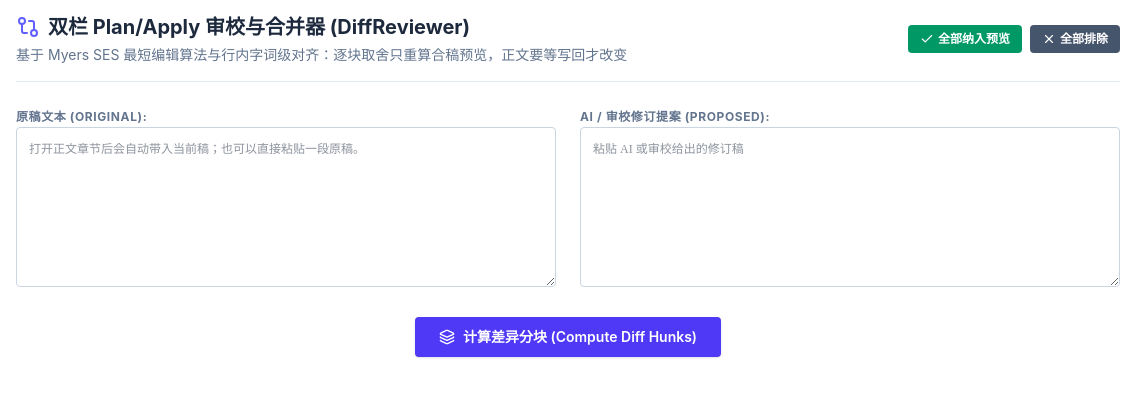
Test: DiffReviewer UI Components › starts blank and refuses to compute from two empty panels
The image size is (1137, 396).
Check: the text box with placeholder "打开正文章节后会自动带入当前稿；也可以直接粘贴一段原稿。" is empty, box 16,127 -> 556,287
Check: the text box with placeholder "粘贴 AI 或审校给出的修订稿" is empty, box 580,127 -> 1120,287
Click the button "计算差异分块 (Compute Diff Hunks)". click: (568, 337)
box: 415,317 -> 721,357
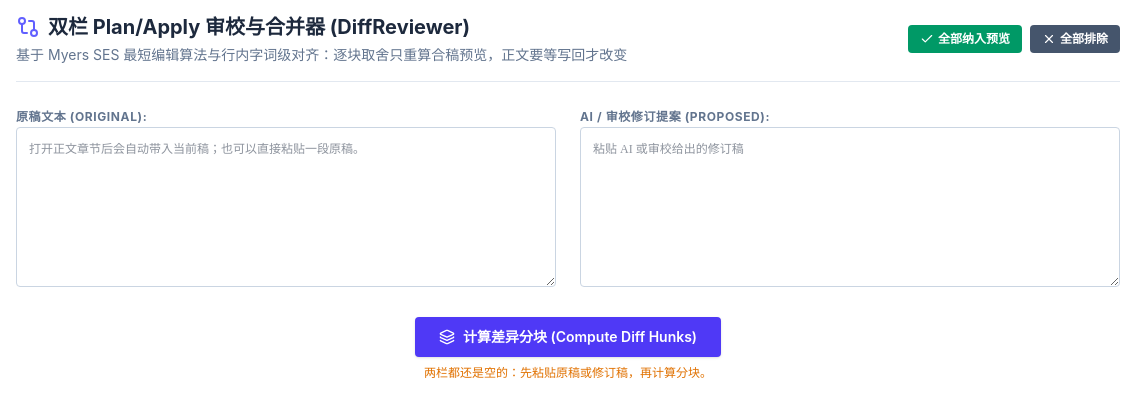
Check: the text "两栏都还是空的：先粘贴原稿或修订稿，再计算分块。" is shown, box 424,365 -> 712,380
